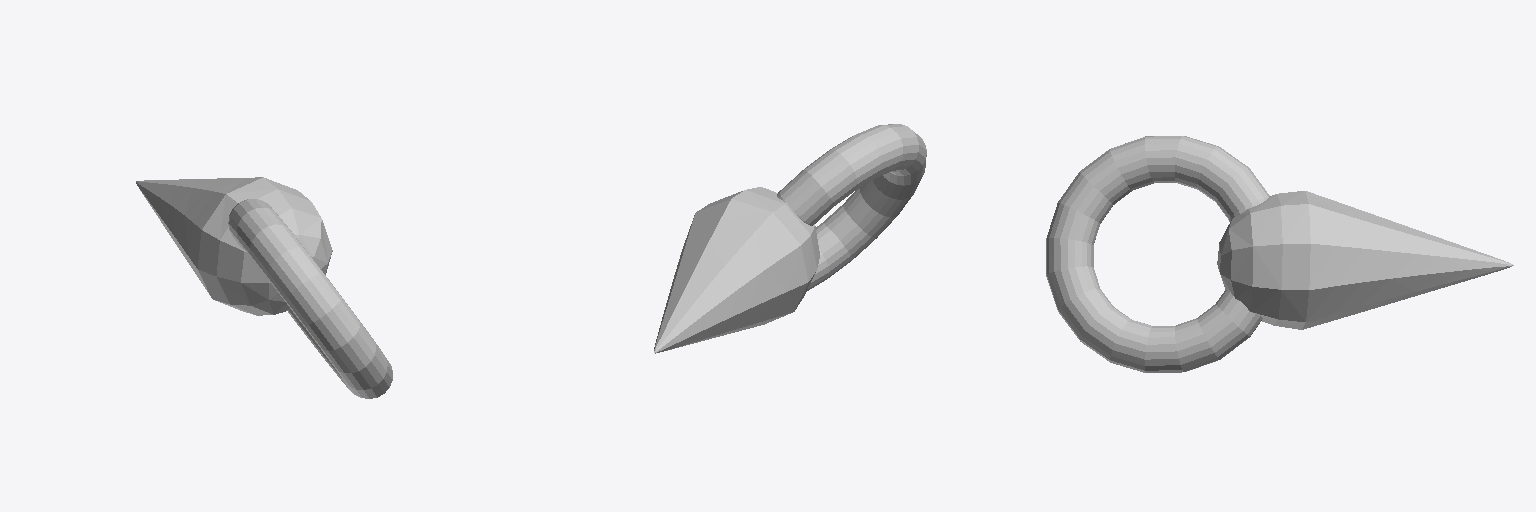
Rendered from Earring2.obj.
3 views of the same model, side by side, from view 1: azimuth 30°, elevation 25°; view 2: azimuth 150°, elevation 25°; view 3: azimuth 270°, elevation 25° (orthographic).
Visible parts, largest first — view 1: Group33320, Group60714; view 2: Group33320, Group60714; view 3: Group33320, Group60714.
Part boxes in pixels (x1,y1,x2,y2): Group33320: (136, 177, 332, 315); Group60714: (228, 199, 392, 398); Group33320: (654, 187, 819, 353); Group60714: (777, 124, 926, 290); Group33320: (1217, 191, 1513, 329); Group60714: (1046, 136, 1269, 372).
Size of the model in its own units: 0.0951 by 0.1225 by 0.2711.